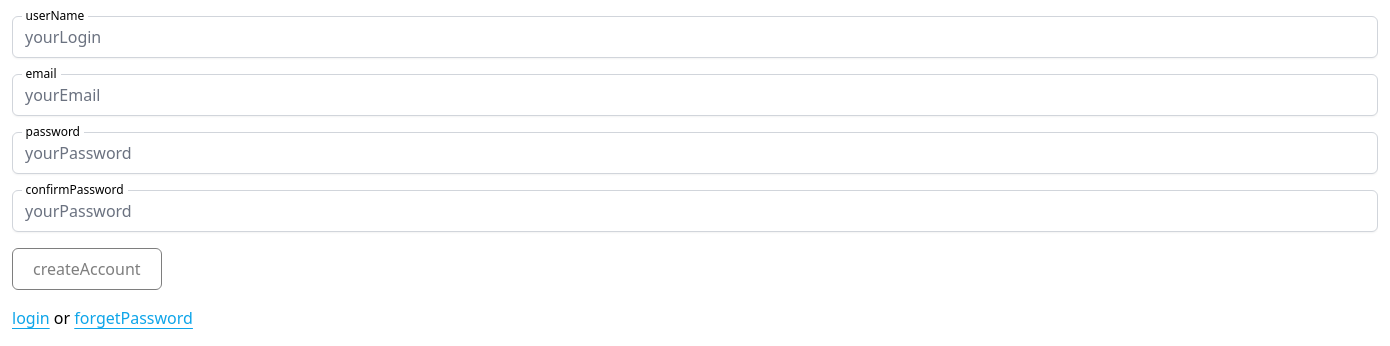
Register form › Fill form
In the field labelled "userName": [695, 37] box [12,16,1378,58], type "Test User"
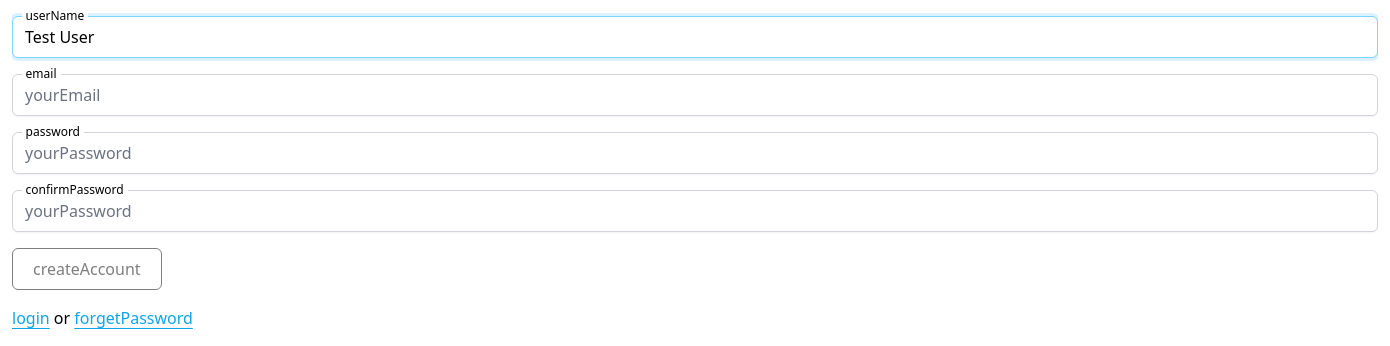
In the field labelled "email": [695, 95] box [12,74,1378,116], type "test.email@test.test"
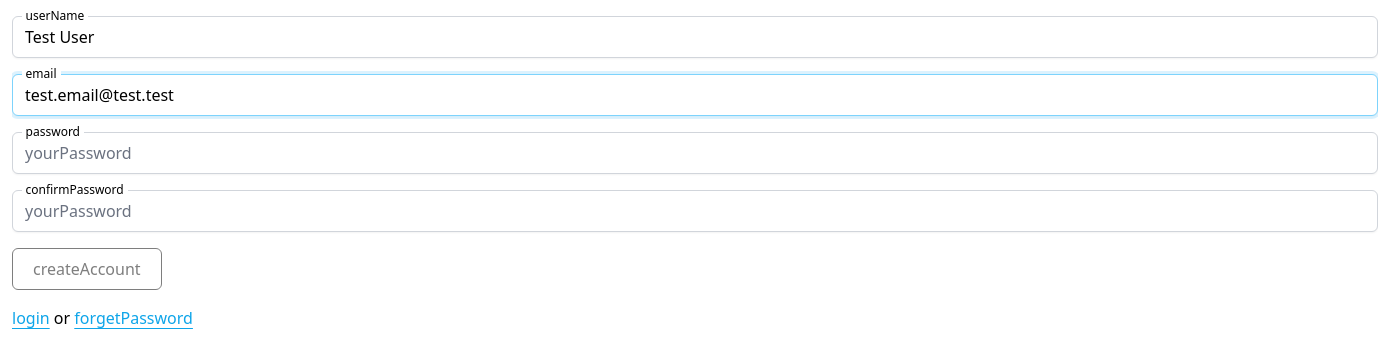
In the password field labelled "password": [695, 153] box [12,132,1378,174], type "pass12345"
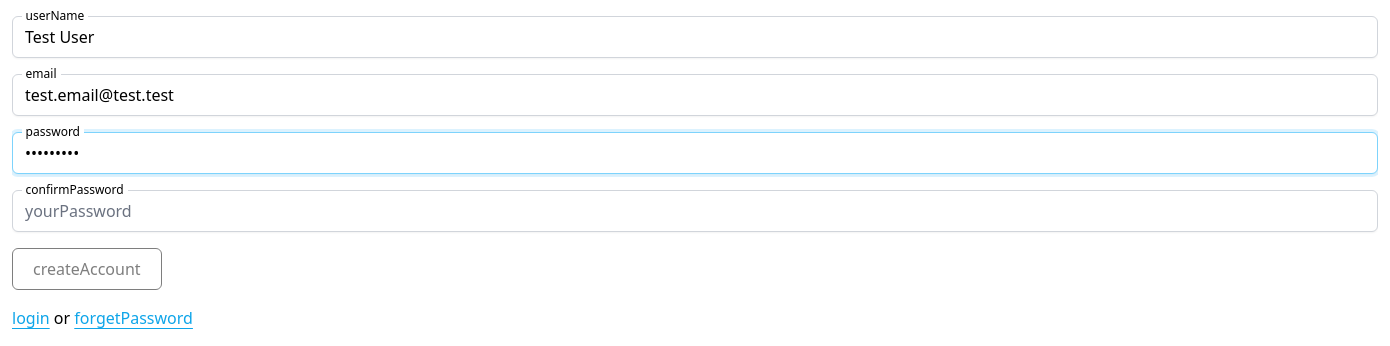
In the password field labelled "confirmPassword": [695, 211] box [12,190,1378,232], type "pass12345"
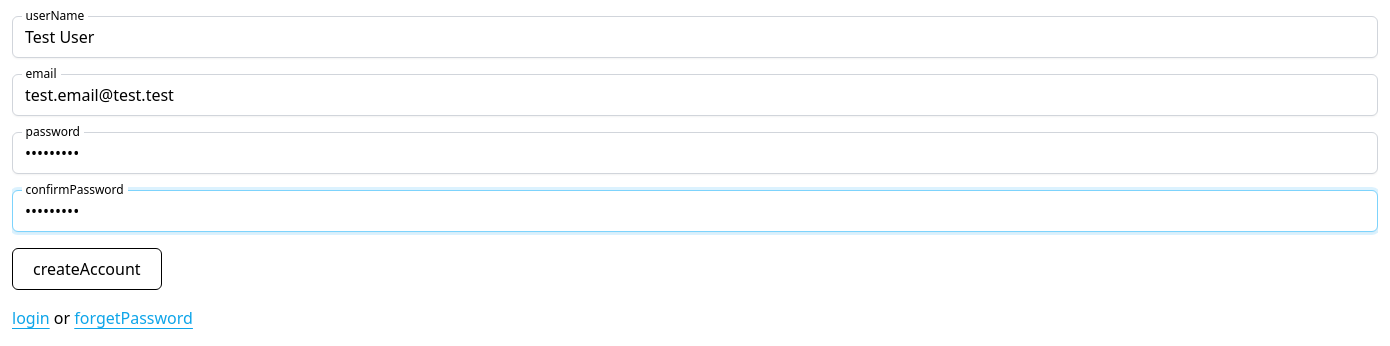
Expected: the button "createAccount" is enabled, [12,248,162,290]
